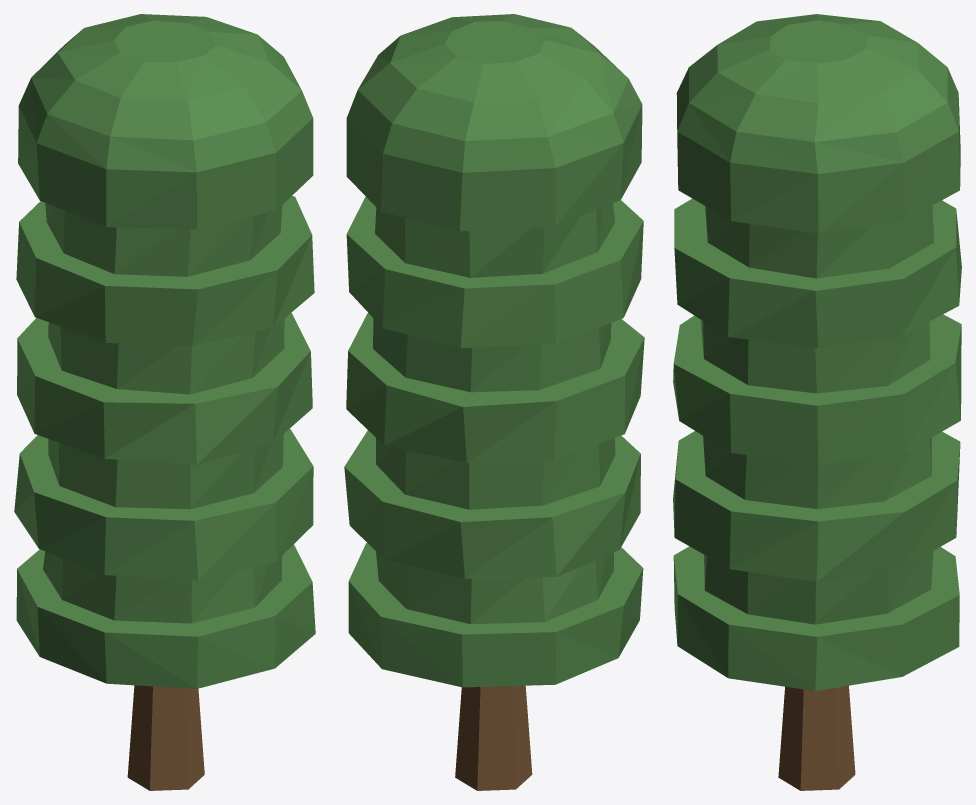
Rendered from tree3d-106.glb.
3 renders of one model, left to right at view 1: azimuth 30°, elevation 25°; view 2: azimuth 150°, elevation 25°; view 3: azimuth 270°, elevation 25°, orthographic.
Visible parts, largest first — view 1: tree3d-106; view 2: tree3d-106; view 3: tree3d-106.
Part boxes in pixels (bbox=[...]): tree3d-106: bbox=[14, 14, 315, 790]; tree3d-106: bbox=[344, 14, 644, 790]; tree3d-106: bbox=[673, 14, 961, 790].
Bounding box in the file's own units: 0.3752 × 1 × 0.3571.
